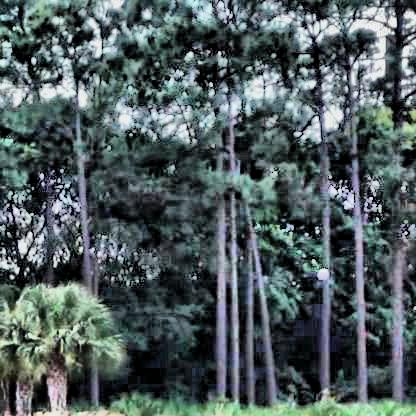golfball: (315, 265, 327, 278)
